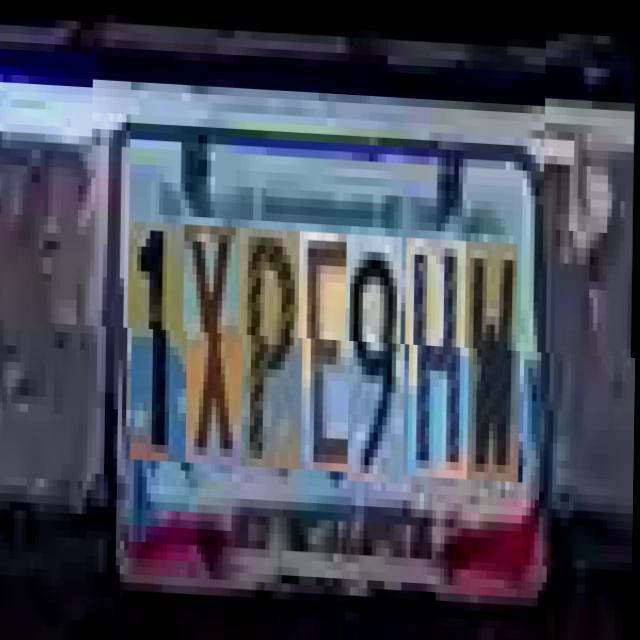1: (132, 220, 190, 460)
9: (349, 230, 407, 479)
E: (302, 227, 360, 468)
H: (408, 232, 471, 473)
P: (242, 225, 304, 466)
W: (468, 235, 522, 476)
X: (187, 222, 244, 463)
